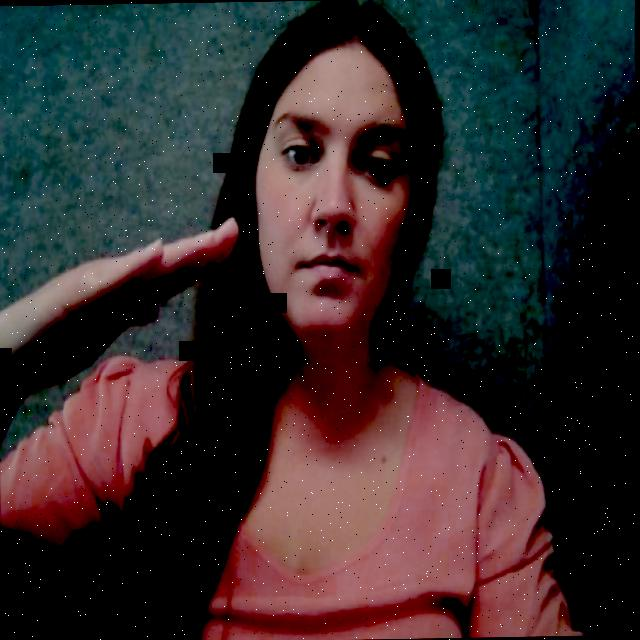Paper: (0, 218, 224, 424)
